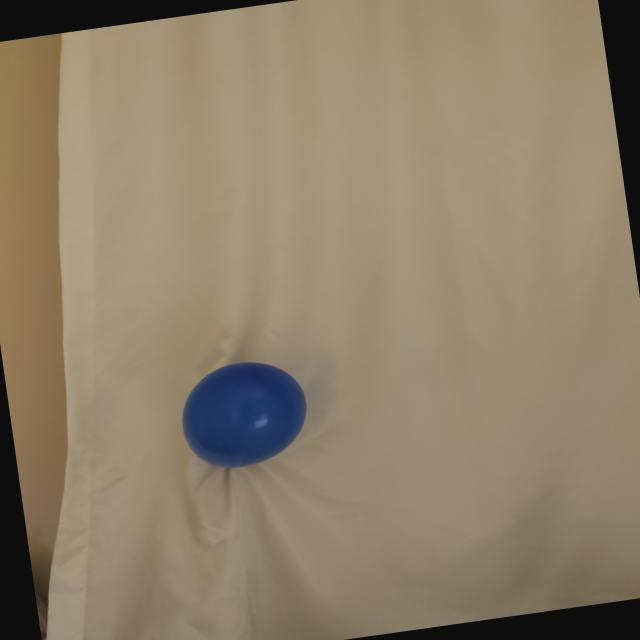balloon: (182, 362, 307, 468)
